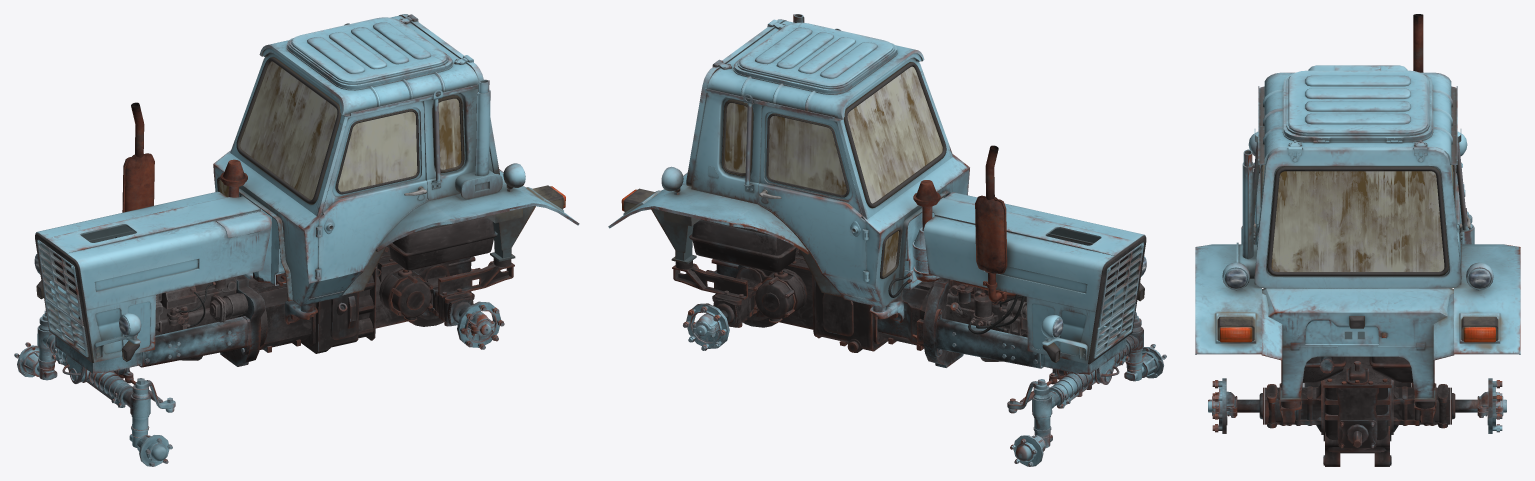
Rendered from Tractor_mtz_body.obj.
3 renders of one model, left to right at view 1: azimuth 30°, elevation 25°; view 2: azimuth 150°, elevation 25°; view 3: azimuth 270°, elevation 25°, orthographic. The views are drawn at different scales.
Visible parts, largest first — view 1: Body; view 2: Body; view 3: Body.
Boxes of the visible parts, x1=… form: Body: x1=14, y1=14, x2=579, y2=466; Body: x1=608, y1=14, x2=1166, y2=466; Body: x1=1195, y1=14, x2=1520, y2=466.
Bounding box in the file's own units: 3.59 × 2.34 × 1.97.
